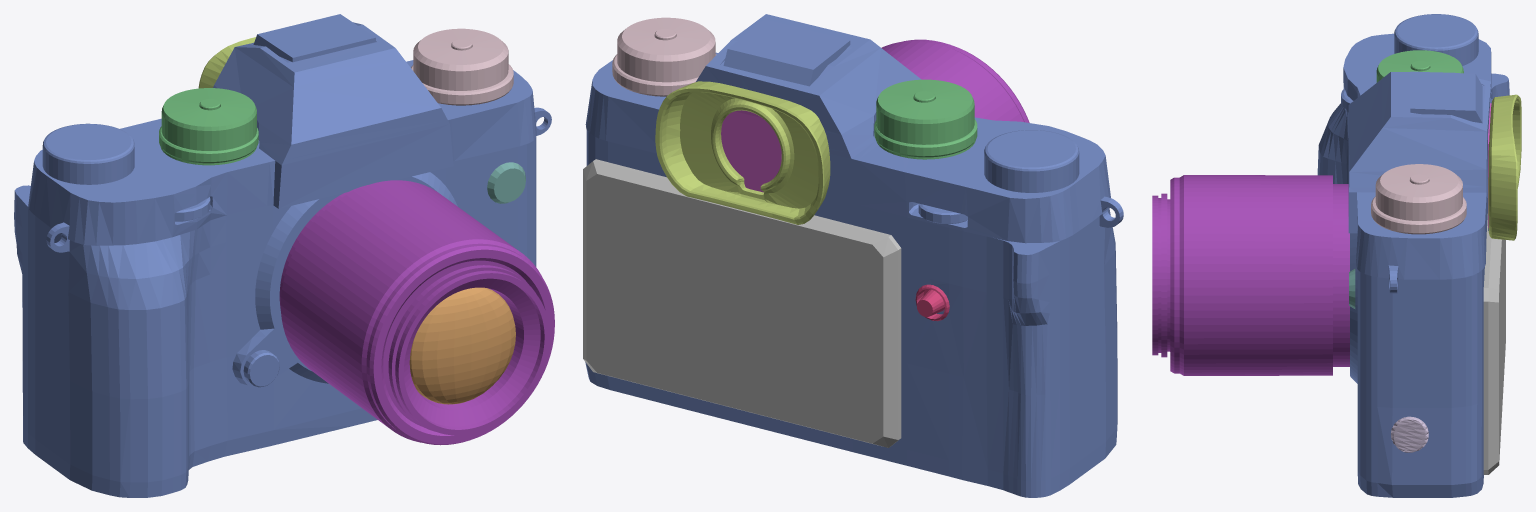
The picture shows the model from 3 angles, left to right: view 1: azimuth 30°, elevation 25°; view 2: azimuth 150°, elevation 25°; view 3: azimuth 270°, elevation 25°; orthographic projection. The views are drawn at different scales.
Parts seen in each view (by area): view 1: pred_mesh_gc.ply; view 2: pred_mesh_gc.ply; view 3: pred_mesh_gc.ply.
Boxes of the visible parts, x1,y1,x2,y2 form: pred_mesh_gc.ply: [14, 14, 554, 497]; pred_mesh_gc.ply: [583, 14, 1123, 497]; pred_mesh_gc.ply: [1152, 14, 1521, 497].
Size of the model in its own units: 0.7171 by 0.4862 by 0.4993.
